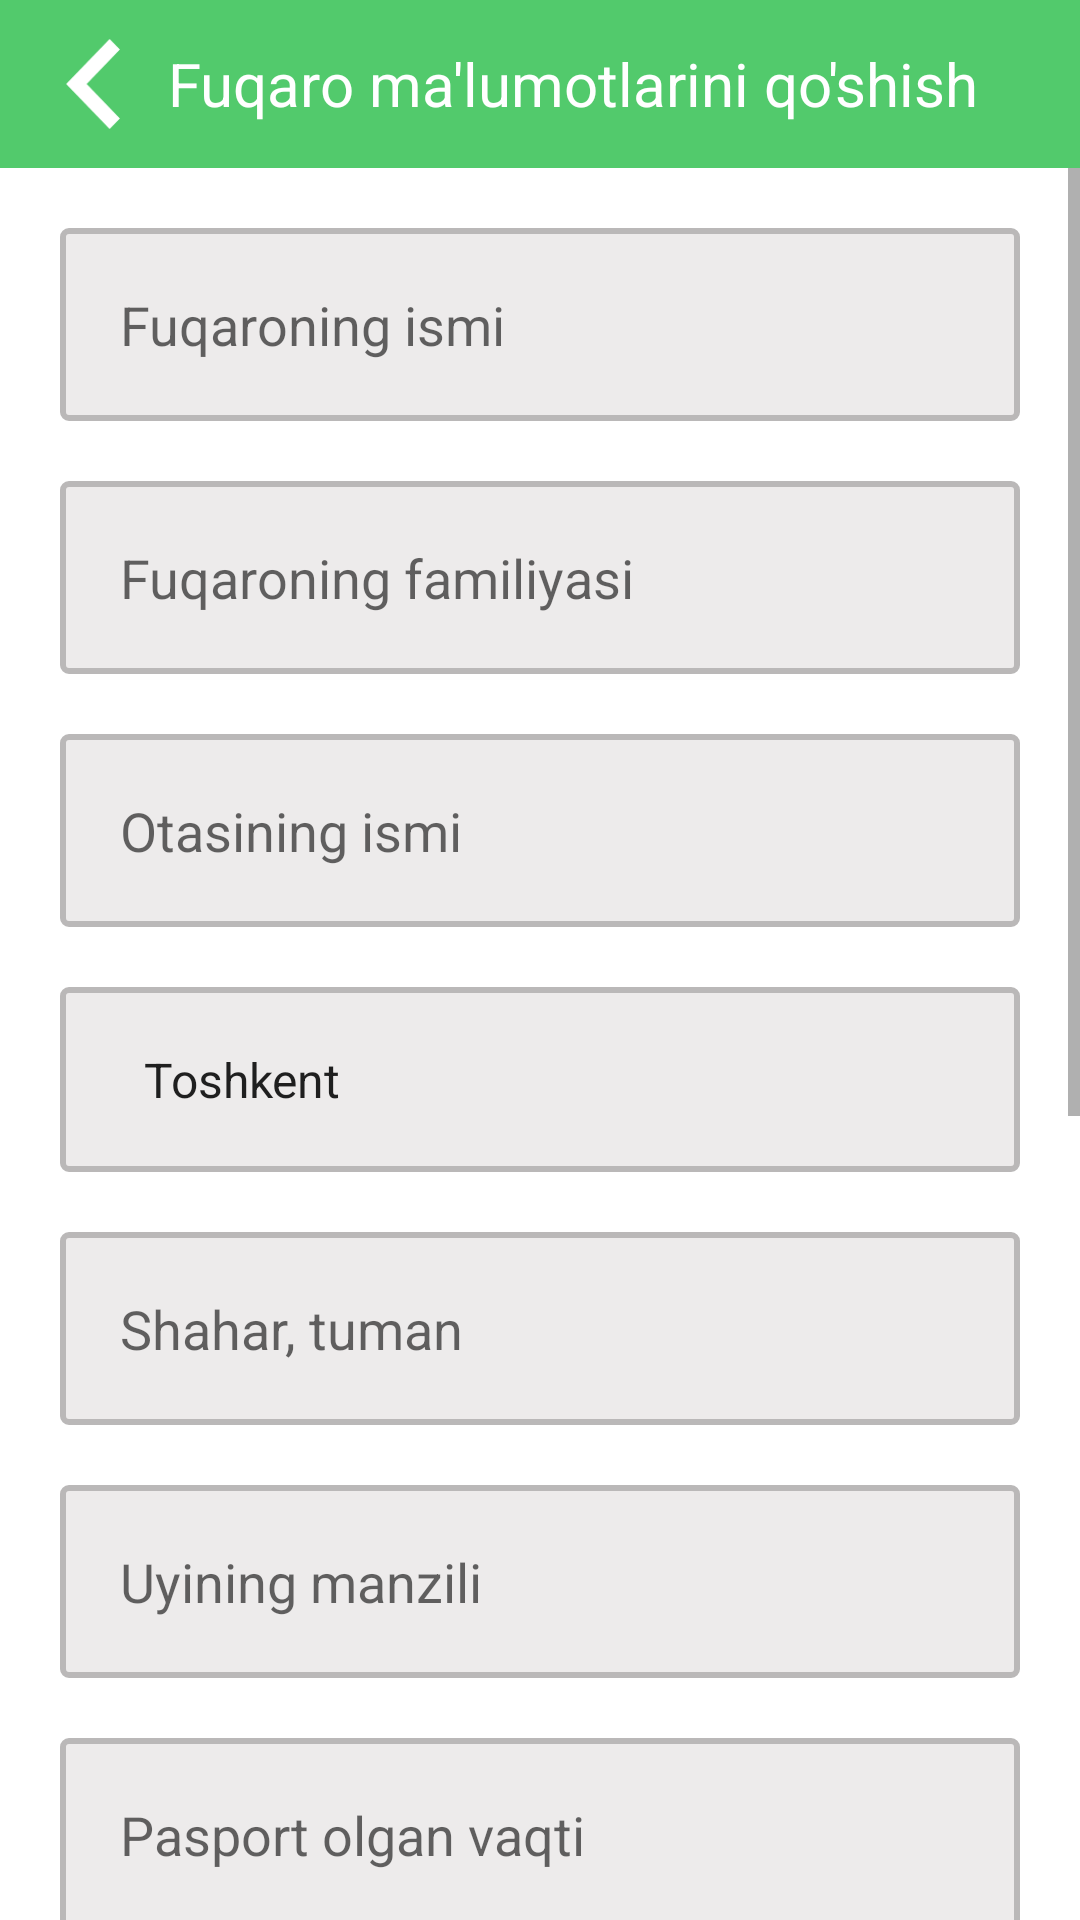

Icon bounding boxes for this 1080 x 1920 phone screenshot, format (x1, y1, x2, y2):
back: (66, 39, 120, 129)
